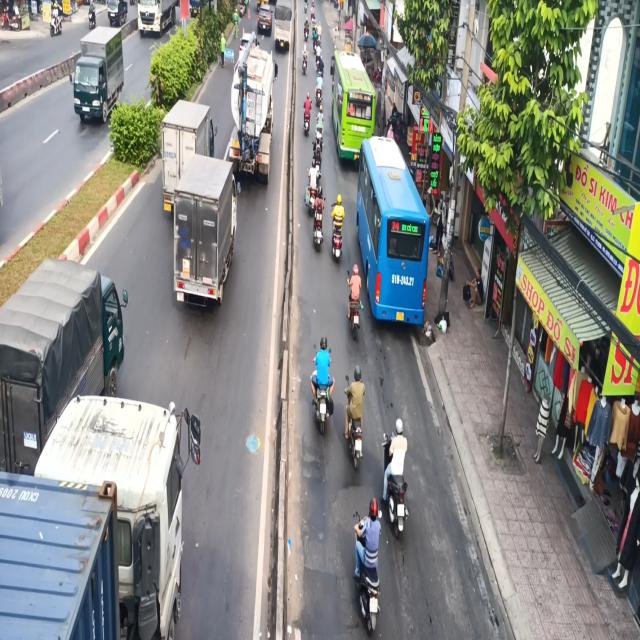bus: (360, 131, 437, 330), (330, 52, 376, 163)
motor: (348, 496, 388, 633), (381, 411, 416, 543), (308, 327, 337, 449), (341, 358, 368, 471), (346, 264, 365, 343)
truck: (172, 159, 241, 314), (229, 47, 271, 181)
